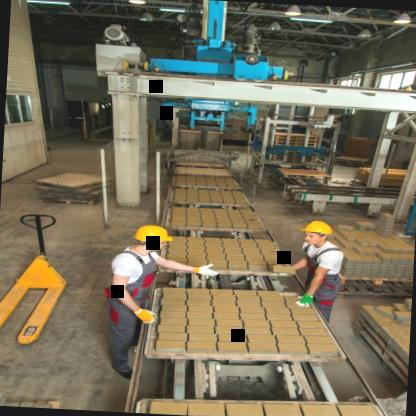helmet: (127, 218, 175, 262), (301, 214, 336, 253)
